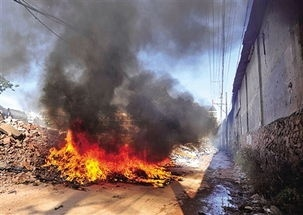fire: (46, 124, 172, 185)
